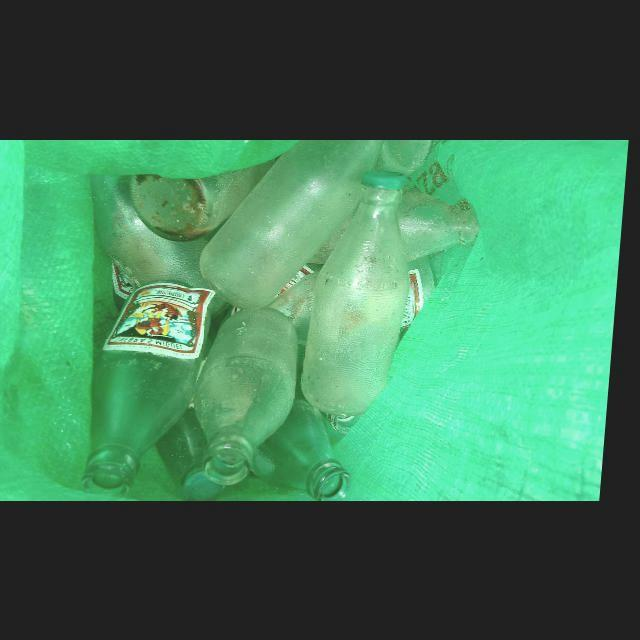glass_bottle: (204, 139, 387, 310), (90, 279, 220, 497), (307, 170, 415, 416), (200, 307, 304, 486), (93, 175, 222, 289), (121, 156, 283, 242), (262, 396, 358, 500), (401, 185, 483, 261)
